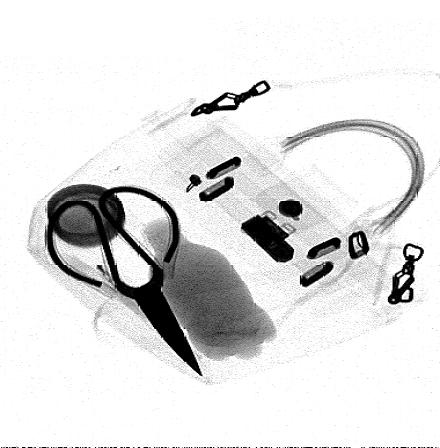Scissors: (42, 180, 206, 380)
